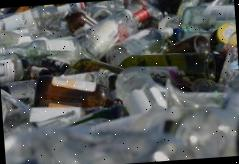glass: (0, 3, 221, 112)
